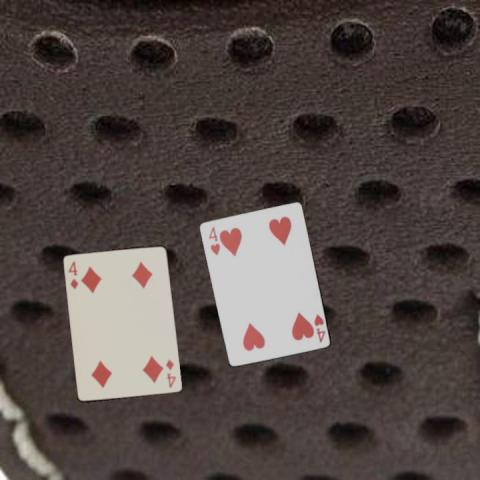4d: (164, 357, 178, 389), (66, 258, 79, 291)
4h: (205, 223, 221, 257), (310, 312, 327, 344)
